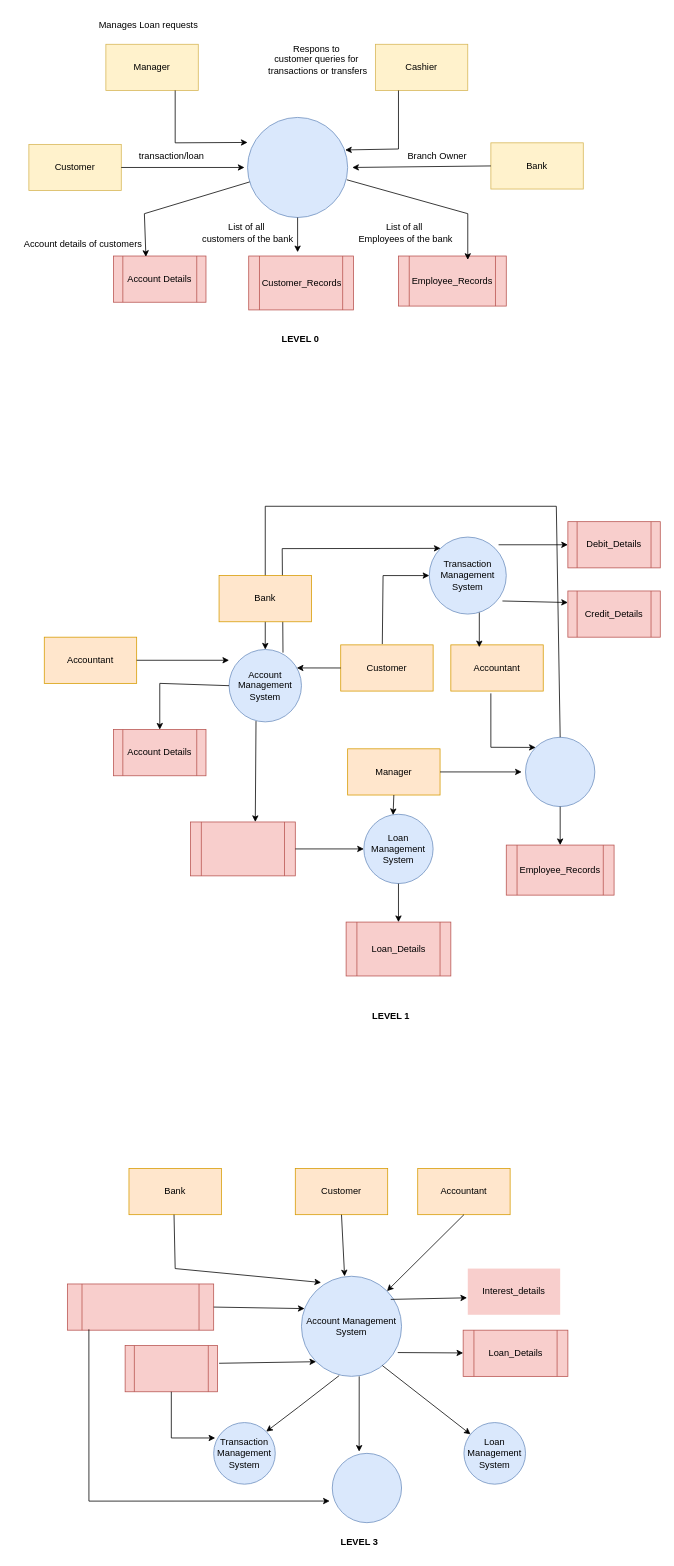
Image size: 674x1566. Some labels were removed from this diagram. The shapes that lost their labels are listed below. From the top down, each one's centre as x and y in pixels, then its label:
pixel 297 167: BANKING SYSTEM
pixel 560 772: Online Banking System
pixel 242 848: Cash_Records
pixel 140 1306: Customer_details
pixel 171 1368: Balance_details
pixel 366 1488: Generate Customer Report
